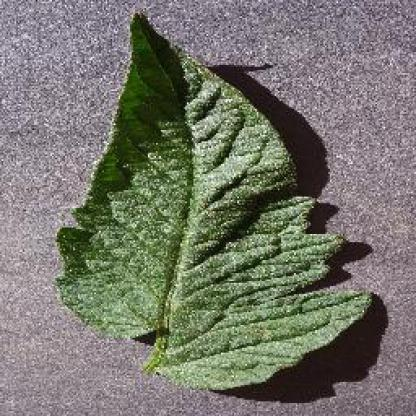good leaf: (109, 18, 344, 364)
